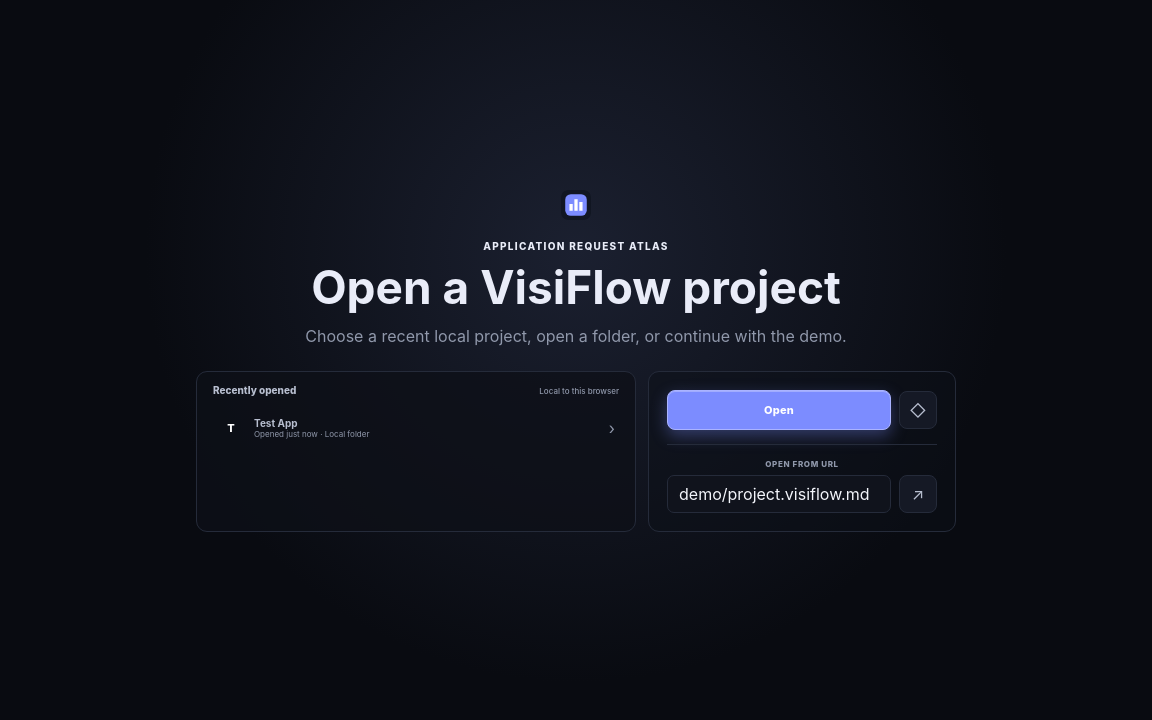
Test: unified workspace › enters edit mode with Shift + Tab outside text-entry controls
The image size is (1152, 720).
Expected: the heading "Open a VisiFlow project" is shown, [311,259,841,315]
Step 1. Click the button "Open" → click(779, 410), box [667,390,891,430]
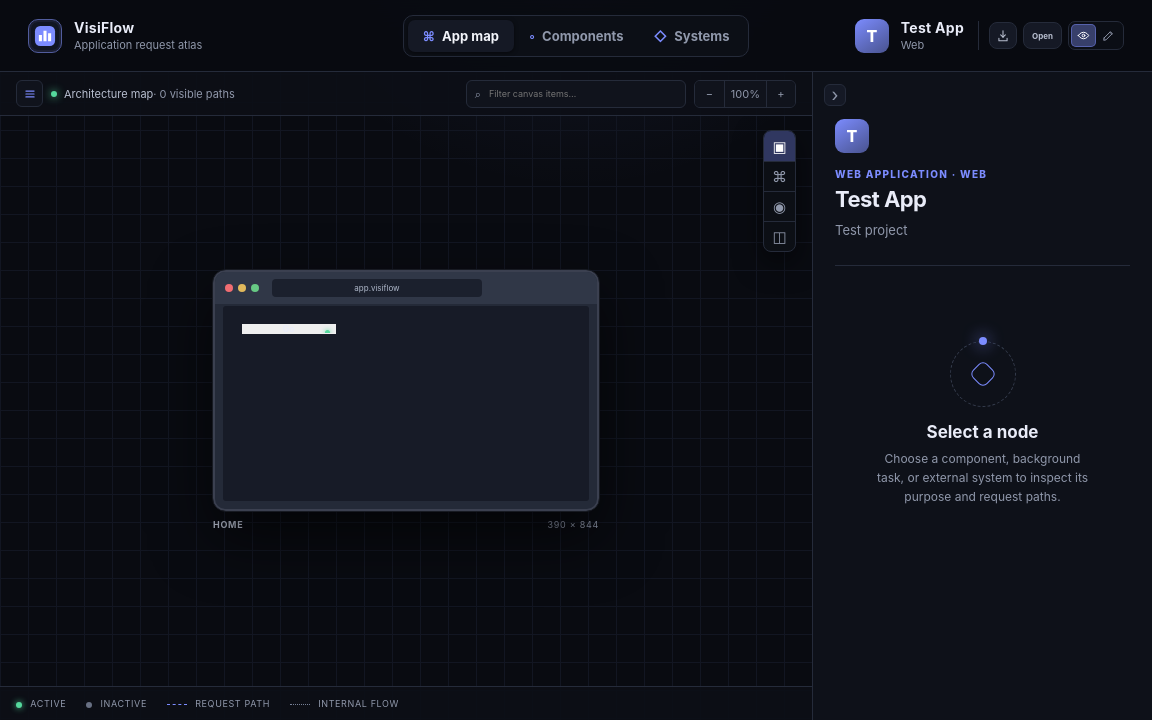
Expected: the text "Application request atlas" is shown, [74,38,202,52]
Step 2. Press Tab in the button with aria-label "Action, active", box [242,324,336,334]
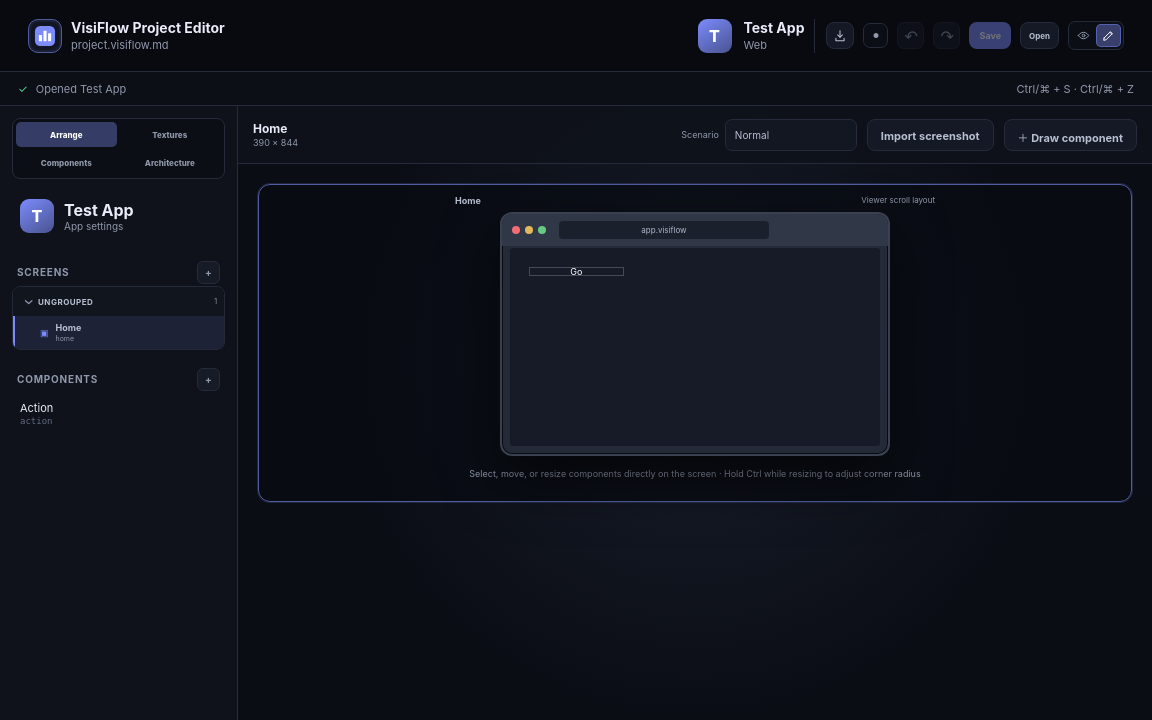
Now the element with class "disk-editor" is shown
Step 3. Press Tab in the element with class "disk-editor"
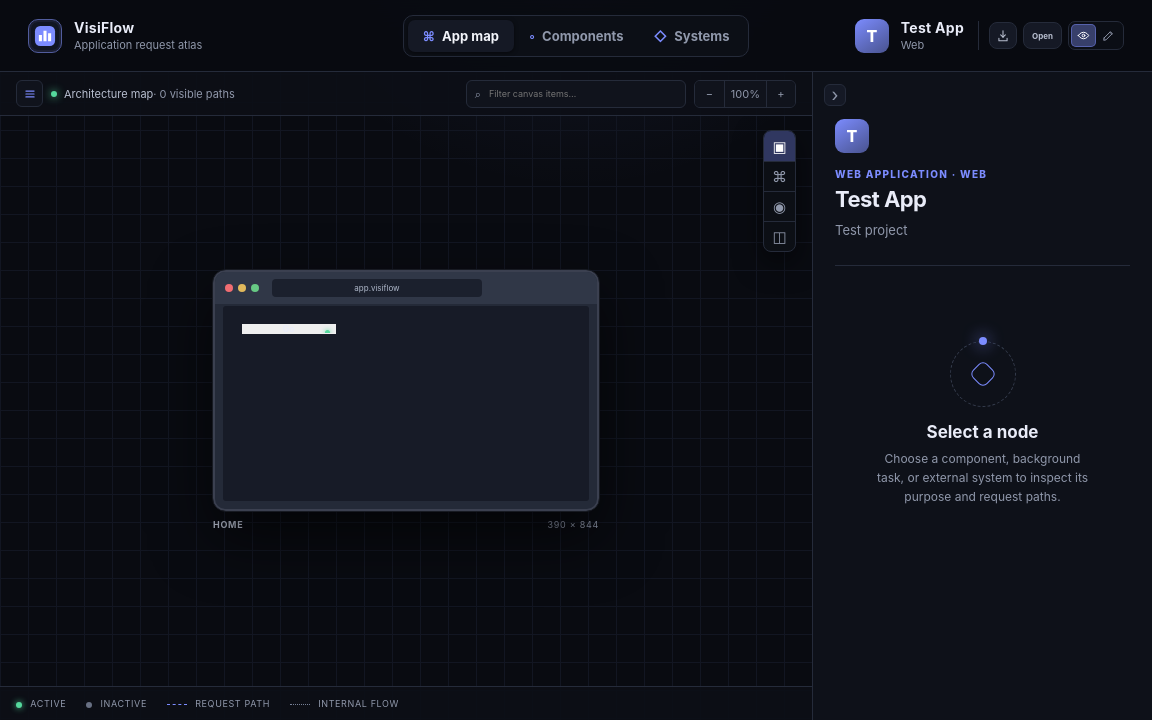
Now the element with class "disk-editor" is gone
